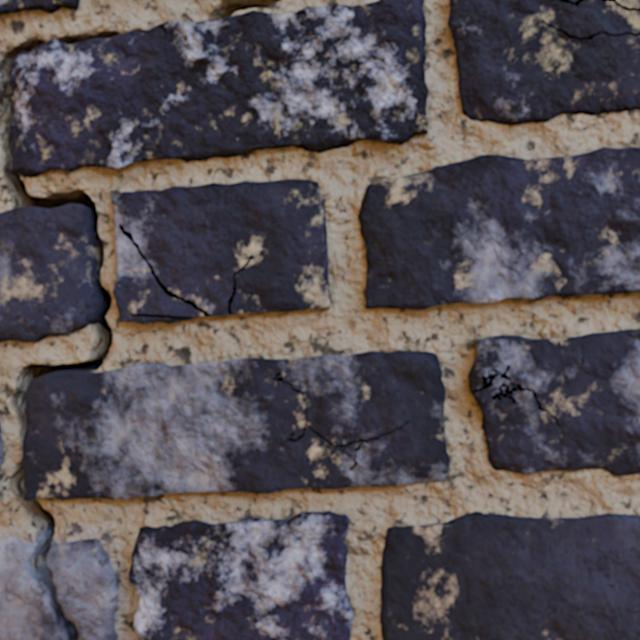broken_brick: (47, 539, 118, 639), (0, 536, 66, 639)
crack: (0, 0, 449, 639), (358, 147, 639, 310), (380, 511, 639, 639), (111, 179, 330, 324), (129, 511, 353, 639), (468, 328, 639, 475), (448, 0, 639, 125), (0, 0, 79, 14), (0, 426, 4, 468)
